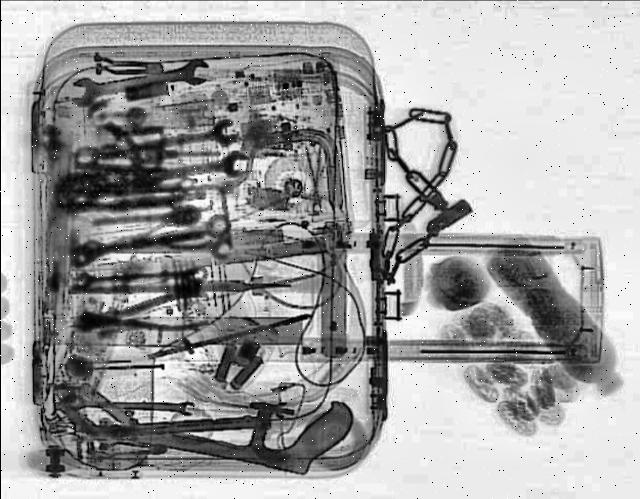Pliers: (72, 282, 218, 344)
Wrench: (66, 212, 235, 268), (66, 56, 214, 106), (75, 264, 209, 292), (83, 234, 233, 258), (148, 116, 240, 154), (165, 147, 252, 185), (67, 395, 197, 416)
